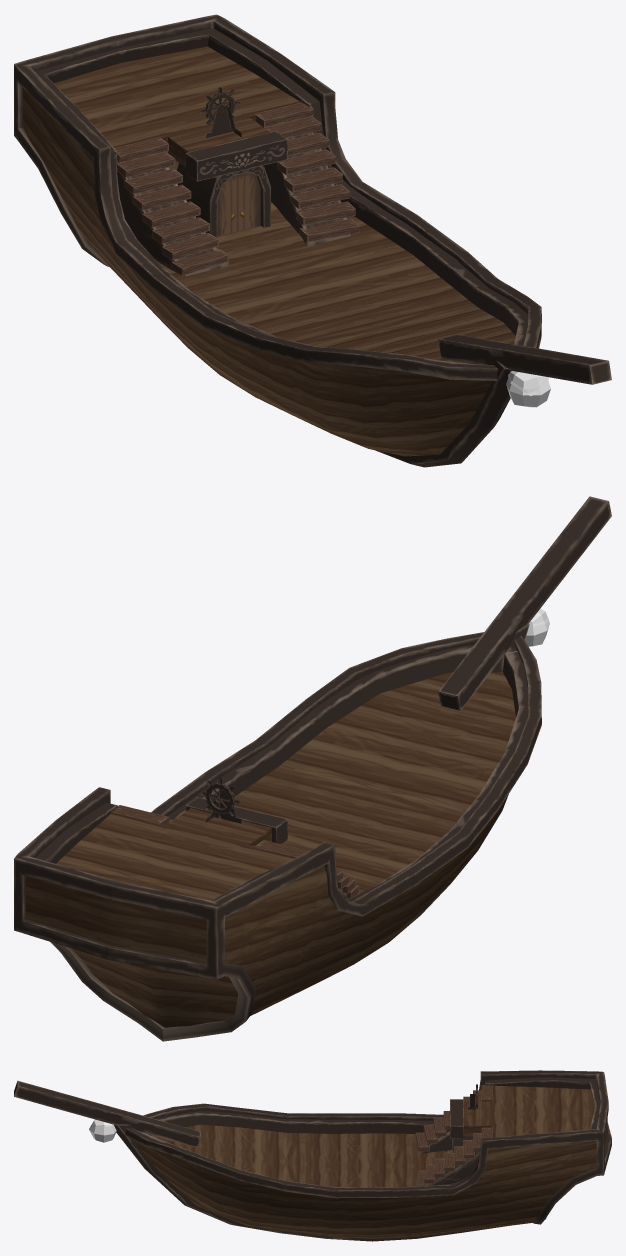
Rendered from Ship.fbx.
3 renders of one model, top to bottom at view 1: azimuth 30°, elevation 25°; view 2: azimuth 150°, elevation 25°; view 3: azimuth 270°, elevation 25°, orthographic. The views are drawn at different scales.
Visible parts, largest first — view 1: Cube; view 2: Cube; view 3: Cube.
Boxes of the visible parts, x1,y1,x2,y2 form: Cube: (14,14,611,467); Cube: (14,496,611,1041); Cube: (14,1070,611,1241).
Size of the model in its own units: 1065 by 1007 by 3461.
